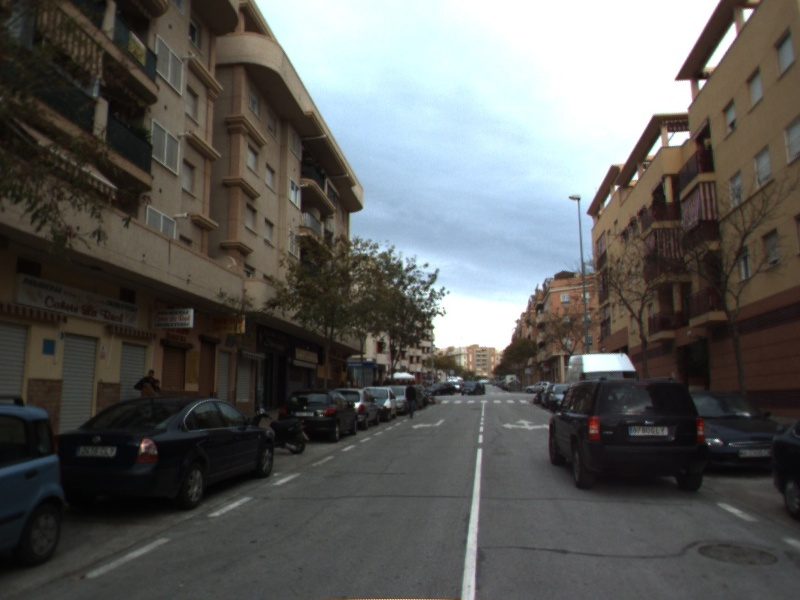STRAIGHT_LEFT_RIGHT: (500, 417, 551, 432)
